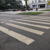zebra: (1, 16, 50, 45)
